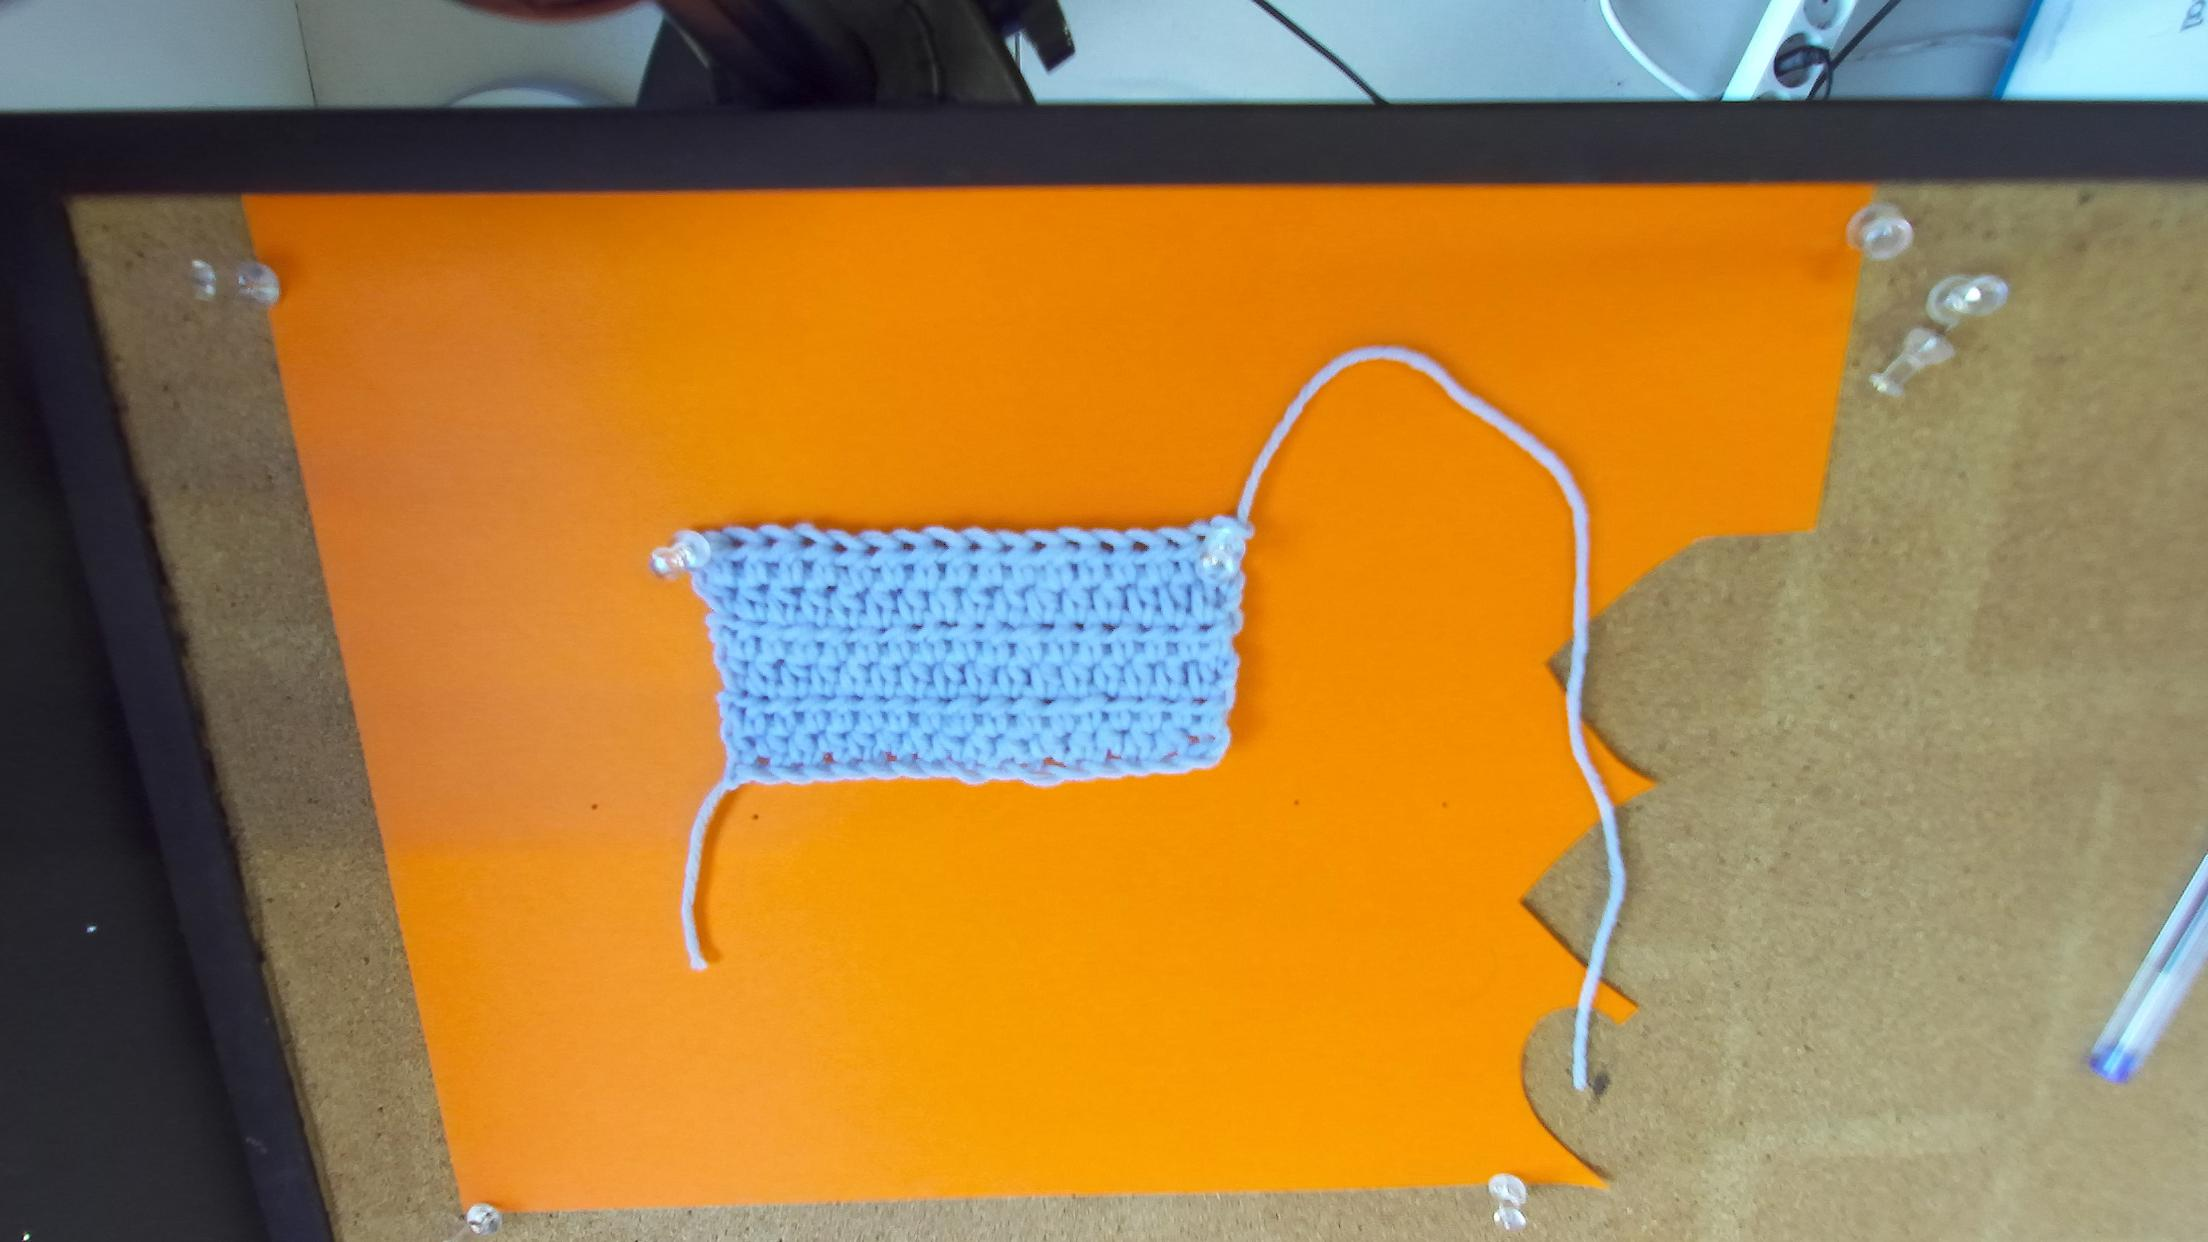hole: (797, 536, 817, 549), (1131, 540, 1151, 552), (864, 545, 882, 558), (832, 541, 848, 555), (1030, 540, 1047, 553), (1066, 538, 1083, 551), (728, 537, 746, 549), (1098, 541, 1116, 553), (932, 539, 950, 549), (968, 540, 983, 552), (1165, 537, 1180, 549), (763, 535, 779, 546), (1001, 542, 1014, 552), (901, 542, 914, 550), (1195, 535, 1205, 545)
swatch: (643, 513, 1258, 800)
